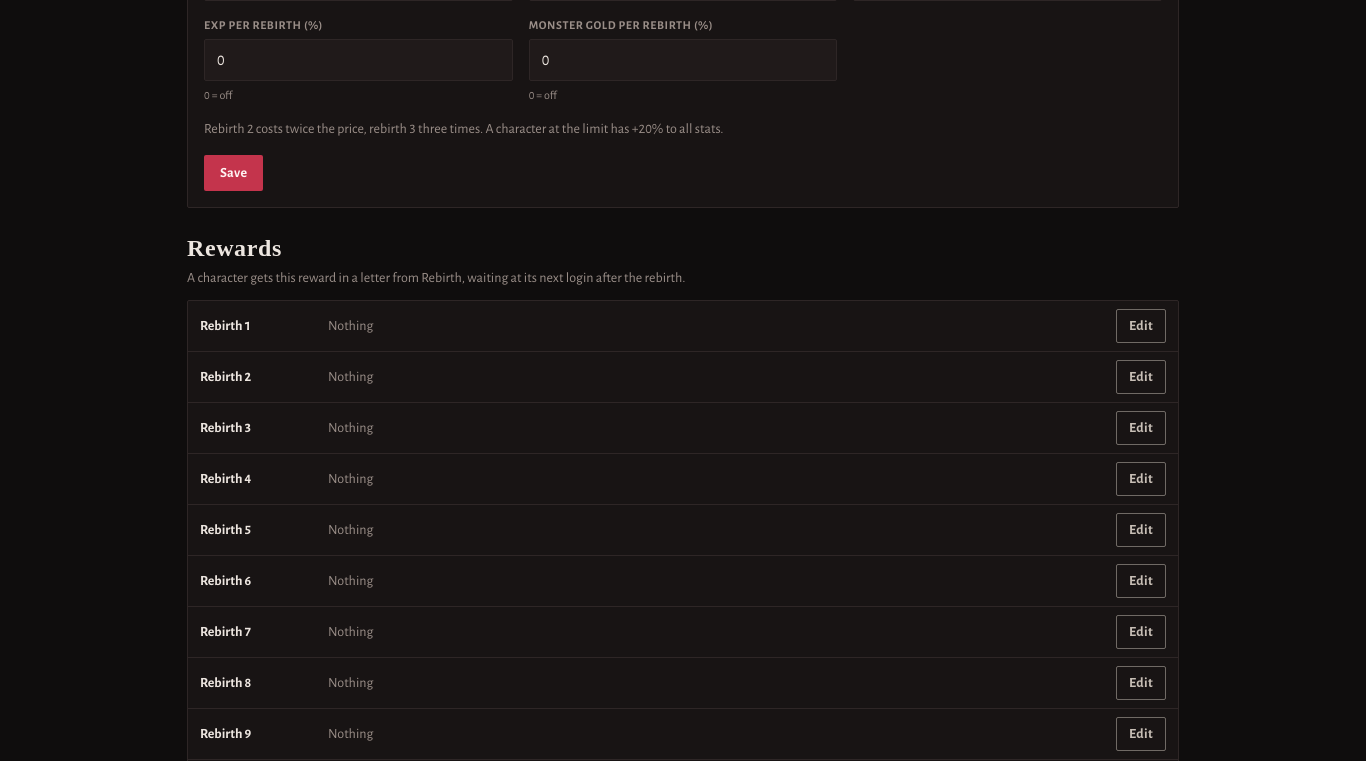
Test: GM rebirth page › opens the reward editor and saves a reward
(page scrolled)
Click the button with aria-label "Edit reward for rebirth 2": x=1141, y=377 left=1116, top=360, right=1166, bottom=394
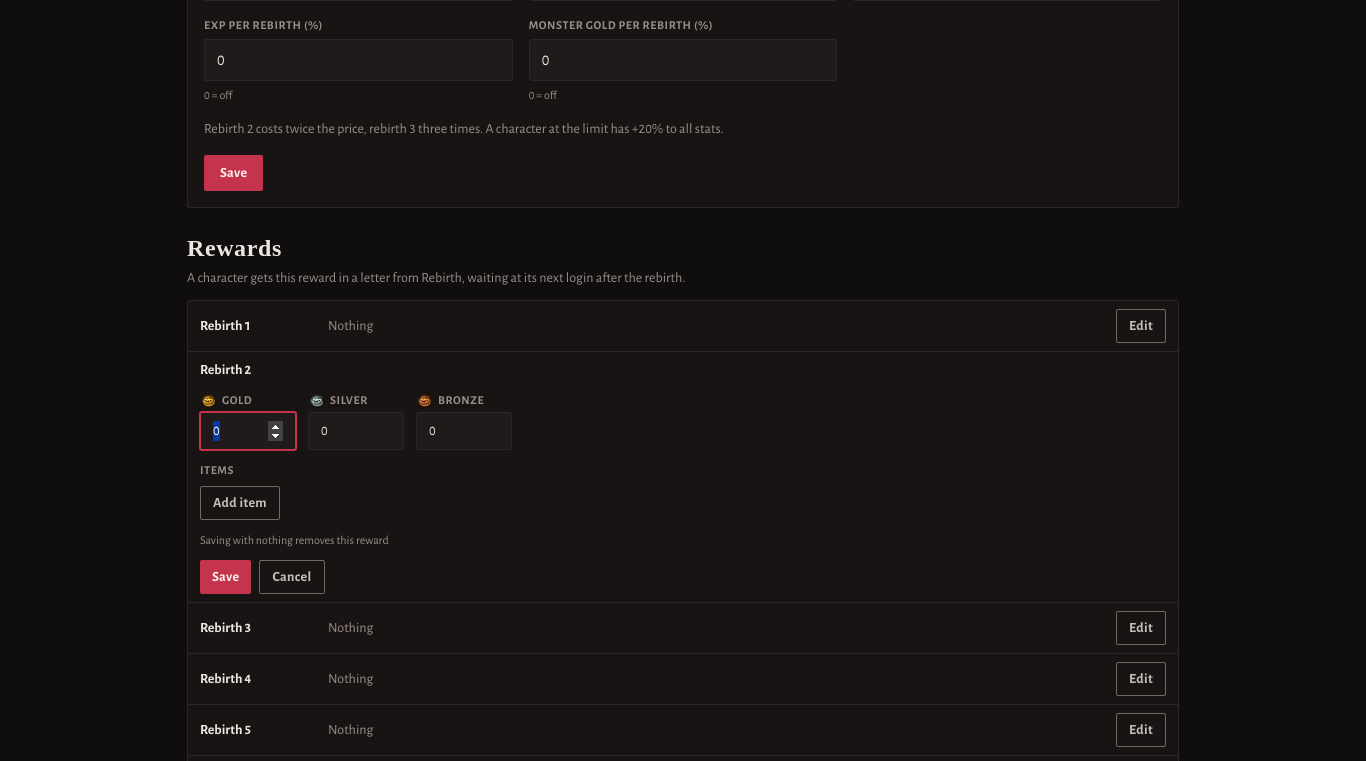
Result: the text "Saving with nothing removes this reward" is shown at left=200, top=534, right=389, bottom=546
Replace the text in the number field labelled "Gold" with "7": x=248, y=431 left=200, top=412, right=296, bottom=450
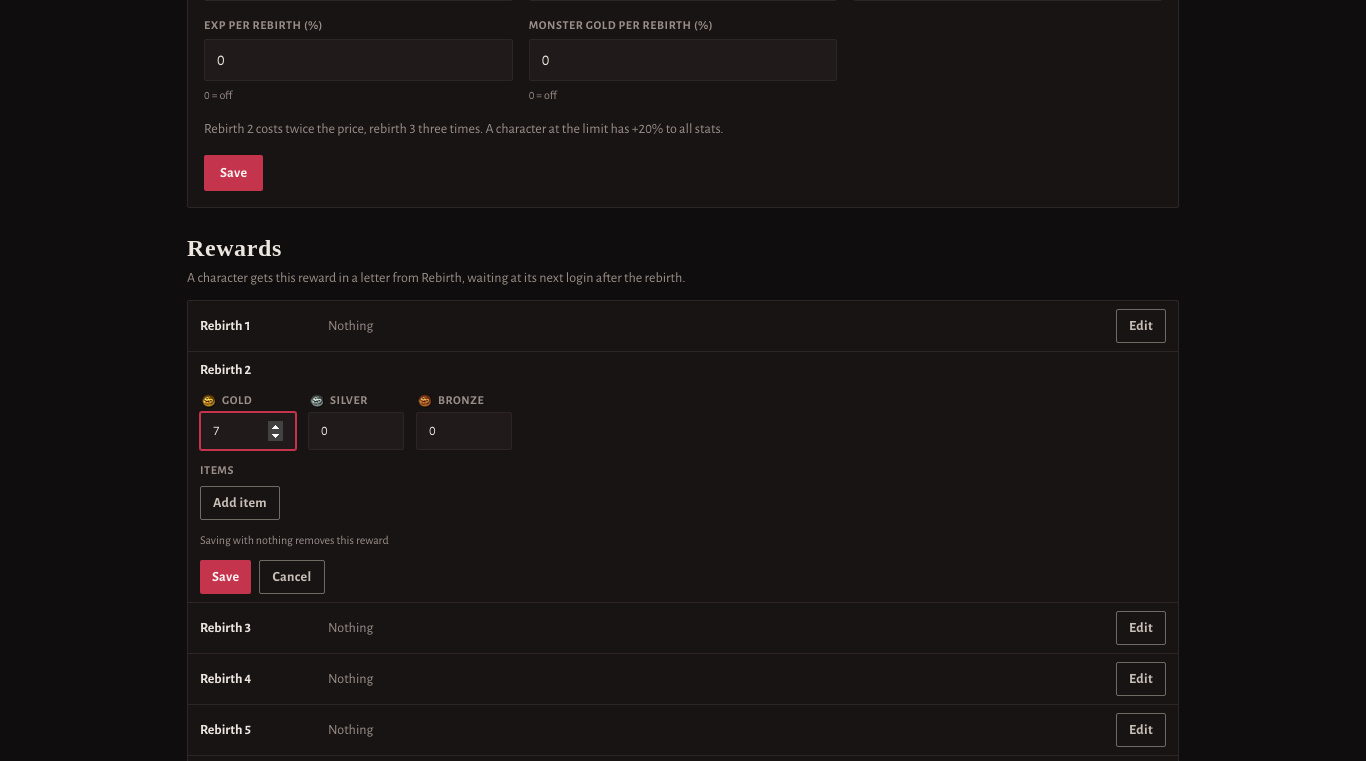
Click the button "Save" below "Saving with nothing removes this reward": x=226, y=577 left=200, top=560, right=252, bottom=594
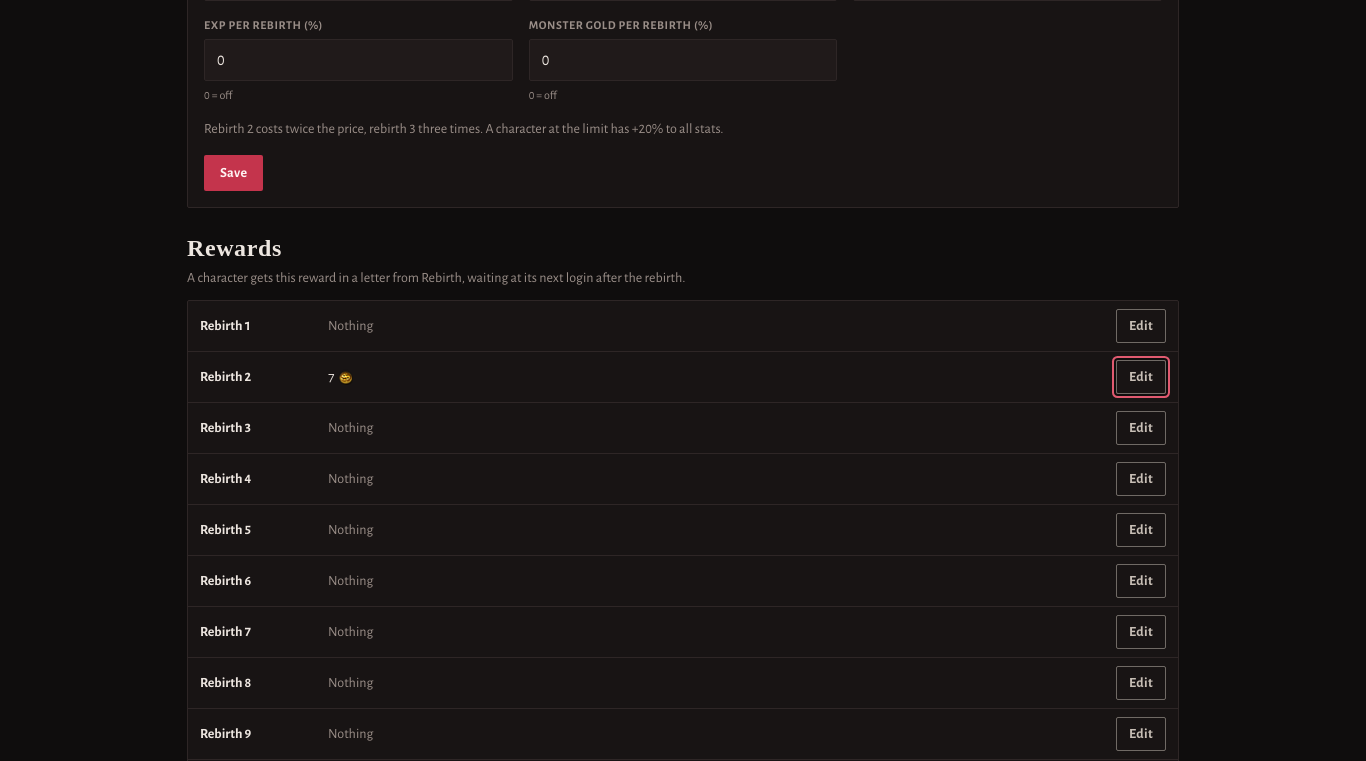
Result: the text "7" is shown at left=328, top=367, right=353, bottom=387
